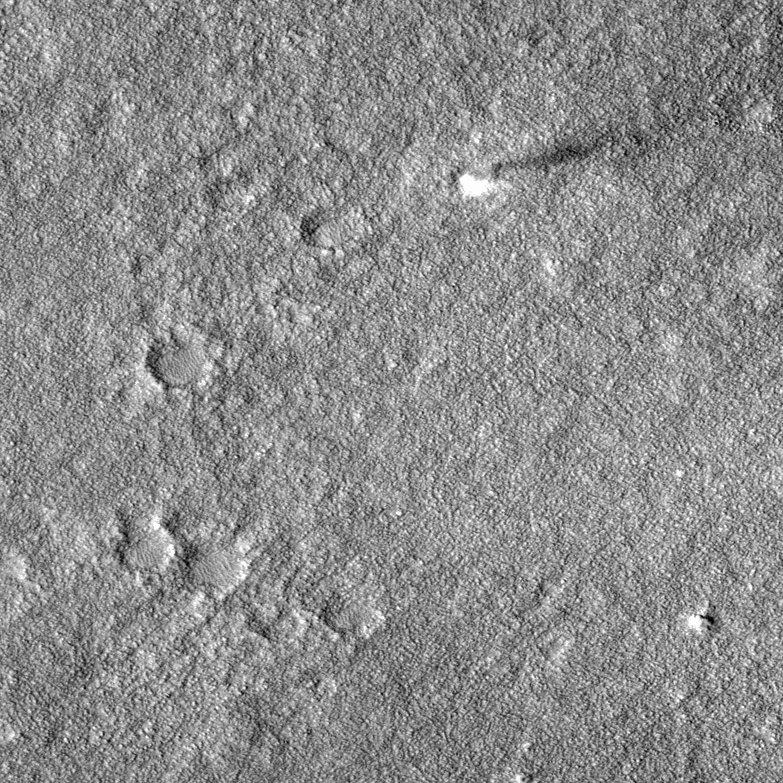dust_devil: (456, 122, 638, 200)
